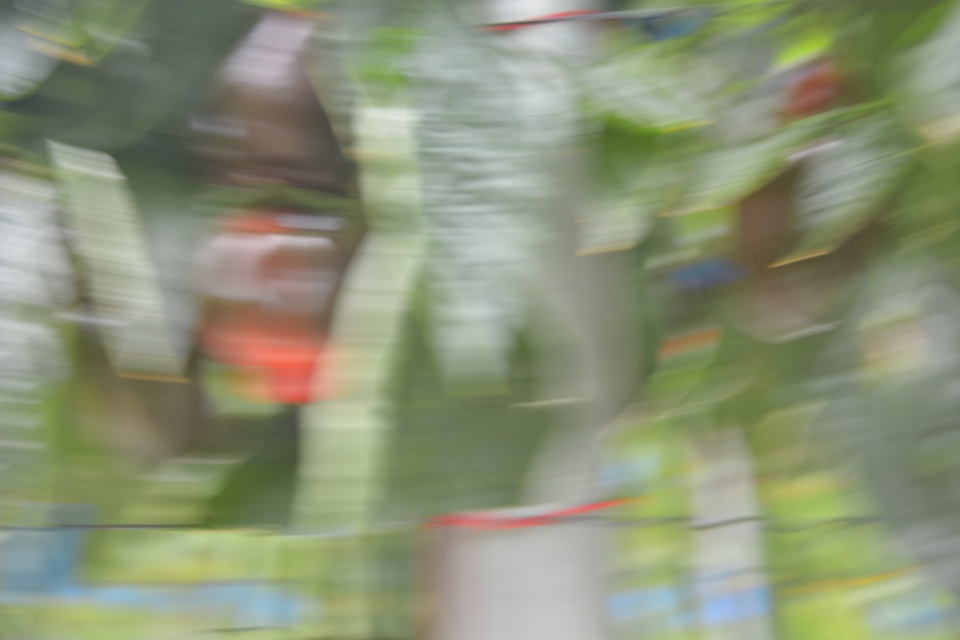fruit: (194, 205, 360, 408), (191, 15, 360, 196), (706, 159, 864, 349)
